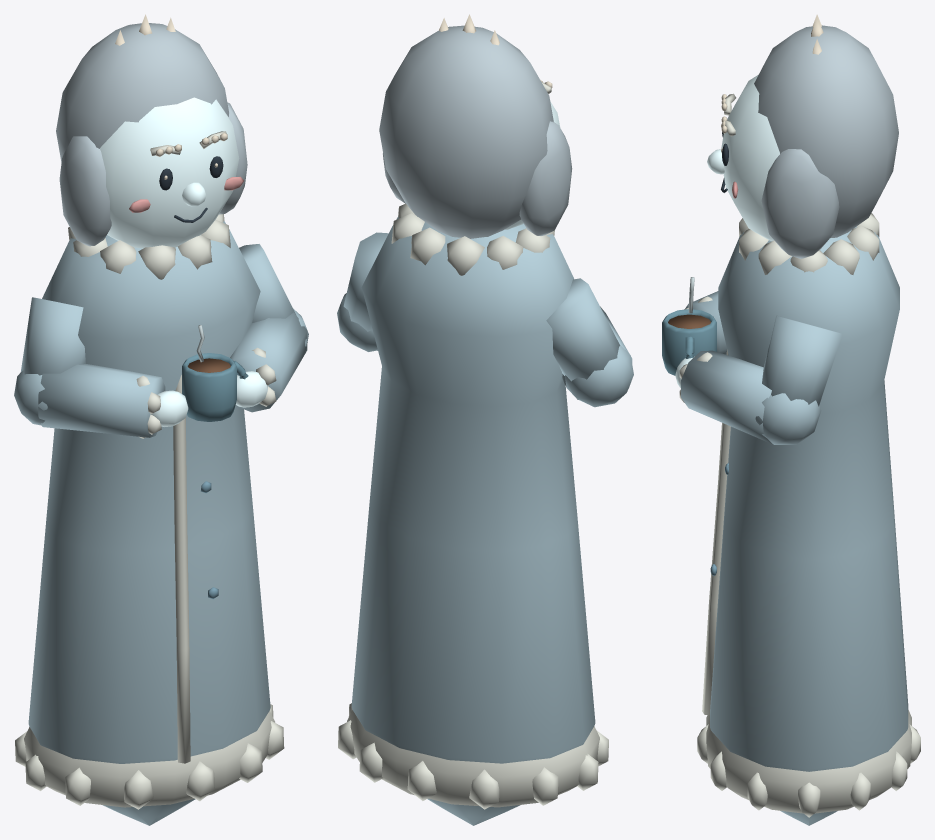
The model's file is vendor_frost.glb.
The picture shows the model from 3 angles, left to right: view 1: azimuth 30°, elevation 25°; view 2: azimuth 150°, elevation 25°; view 3: azimuth 270°, elevation 25°; orthographic projection.
Visible parts, largest first — view 1: vendor_frost; view 2: vendor_frost; view 3: vendor_frost.
Part boxes in pixels (x1,y1,x2,y2): vendor_frost: (14,14,308,825); vendor_frost: (337,14,633,825); vendor_frost: (662,14,920,825).
Bounding box in the file's own units: 0.6193 × 1.69 × 0.4893.
